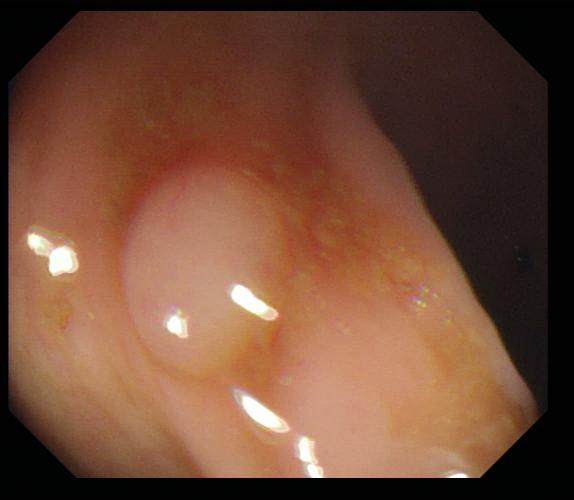polyp: (263, 282, 473, 478), (124, 161, 294, 383)
